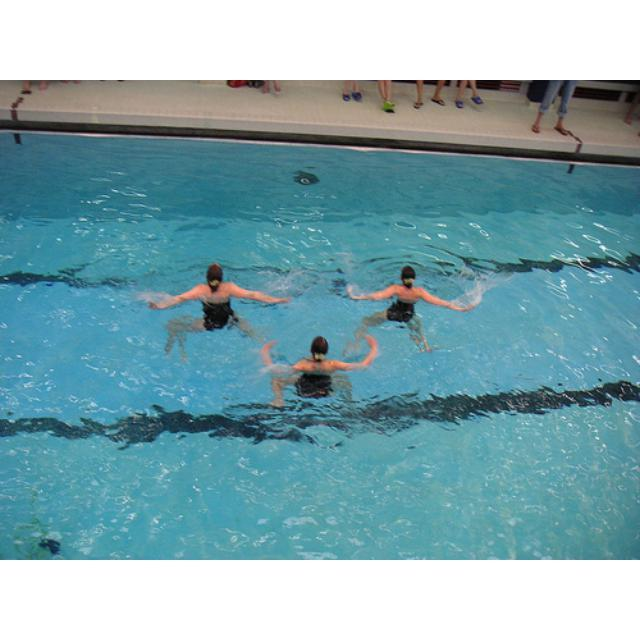human: (147, 262, 291, 351), (348, 264, 474, 353), (262, 333, 374, 407)
